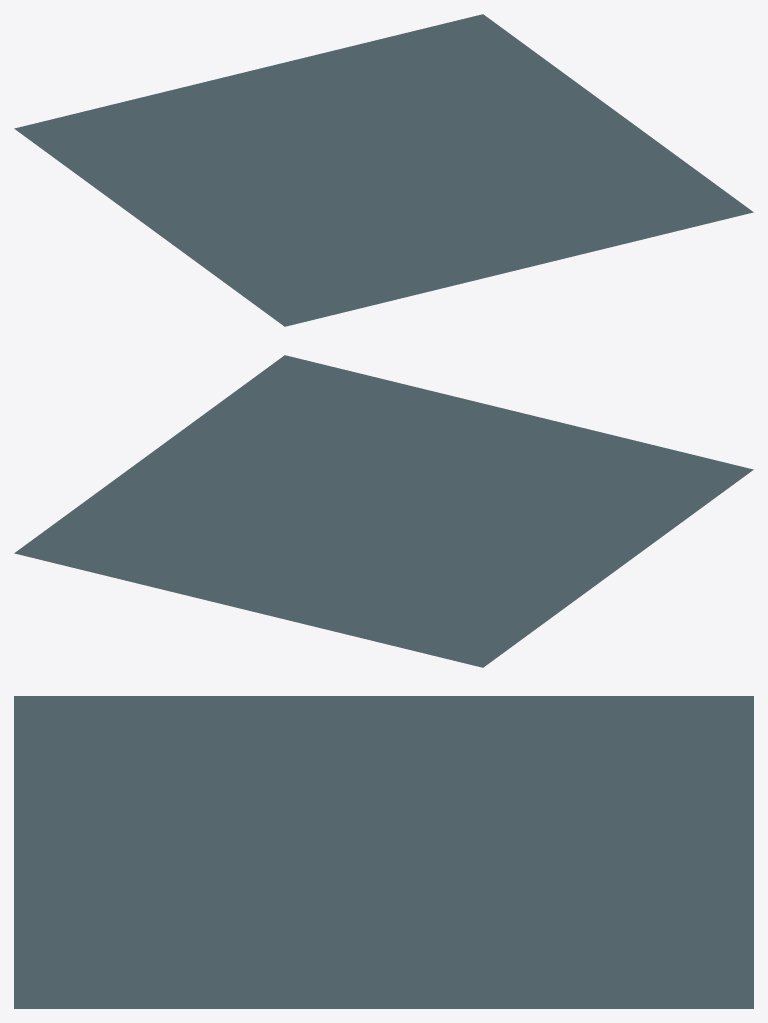
The model's file is Ceiling_type_C_025.fbx.
The picture shows the model from 3 angles, top to bottom: view 1: azimuth 30°, elevation 25°; view 2: azimuth 150°, elevation 25°; view 3: azimuth 270°, elevation 25°; orthographic projection. The views are drawn at different scales.
Parts seen in each view (by area): view 1: Ceiling_type_C_025; view 2: Ceiling_type_C_025; view 3: Ceiling_type_C_025.
Boxes of the visible parts, x1,y1,x2,y2 form: Ceiling_type_C_025: (14, 14, 753, 326); Ceiling_type_C_025: (14, 355, 753, 667); Ceiling_type_C_025: (14, 696, 753, 1008).
Bounding box in the file's own units: 400 × 400 × 6.18.
